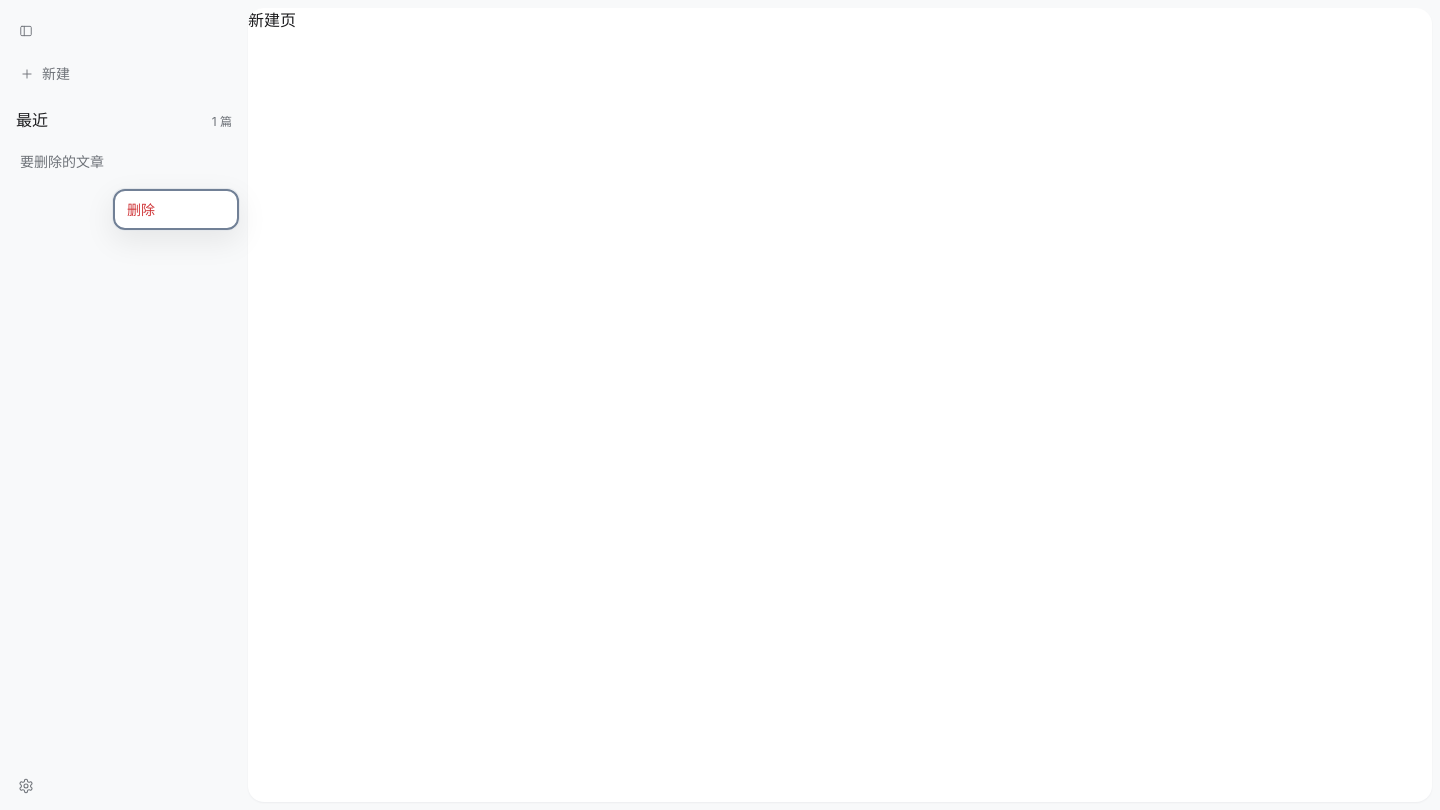
Test case: Home 布局 › 删除历史需要确认，确认后调用删除并刷新列表
Earlier steps of the test are not shown.
Later steps or results of the test are not shown.
Click the menu item "删除".
click(176, 210)  # box top-left (117, 193), bottom-right (235, 226)
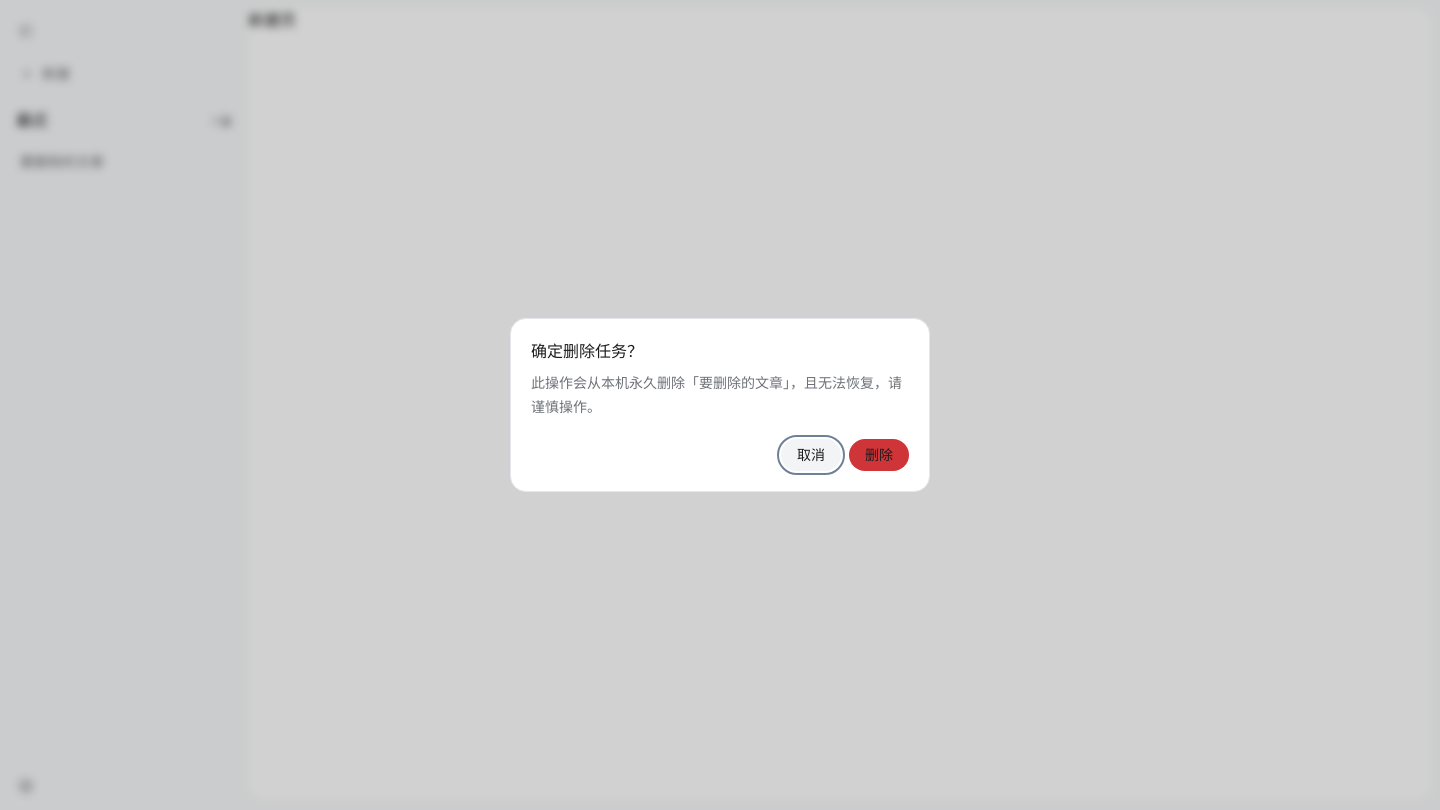
Now the text "此操作会从本机永久删除「要删除的文章」，且无法恢复，请谨慎操作。" is shown, box top-left (531, 371), bottom-right (909, 419)
